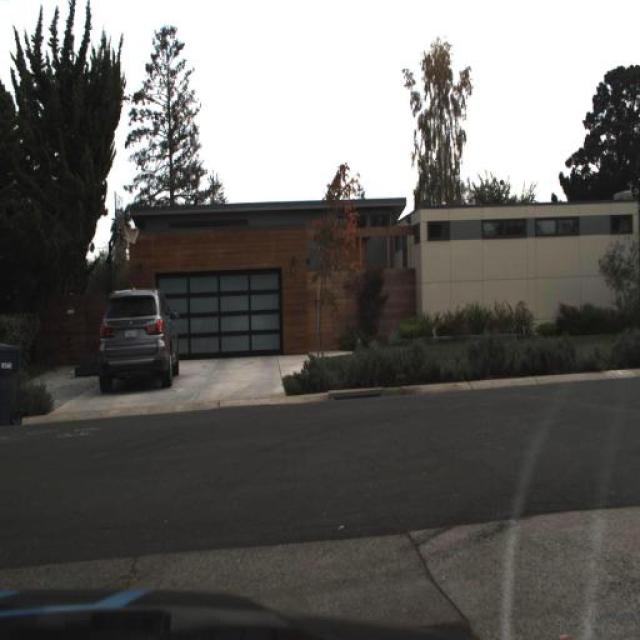car: (88, 278, 190, 394)
